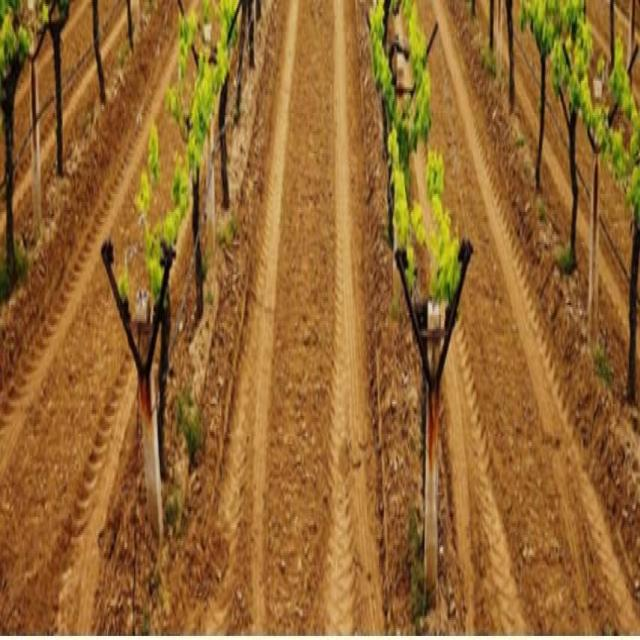row: (173, 0, 415, 605), (414, 0, 639, 617), (0, 7, 222, 540)
